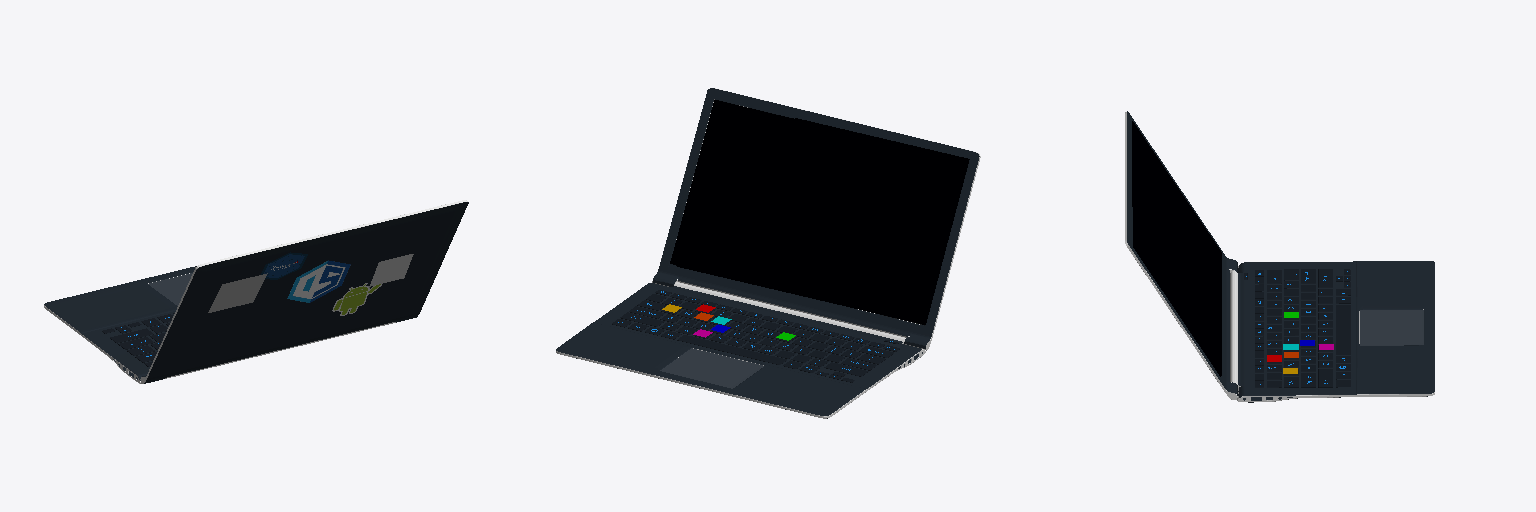
3 views of the same model, side by side, from view 1: azimuth 30°, elevation 25°; view 2: azimuth 150°, elevation 25°; view 3: azimuth 270°, elevation 25° (orthographic).
Visible parts, largest first — view 1: SAMSUNG_Laptop, Plane.004, Plane.002, Plane.005, Plane.001, Plane; view 2: Plane.003, SAMSUNG_Laptop; view 3: SAMSUNG_Laptop, Plane.003.
Part boxes in pixels (bbox=[...]): SAMSUNG_Laptop: bbox=[44, 200, 468, 383]; Plane.004: bbox=[287, 260, 350, 302]; Plane.002: bbox=[208, 273, 267, 312]; Plane.005: bbox=[369, 254, 413, 286]; Plane.001: bbox=[261, 252, 307, 279]; Plane: bbox=[332, 283, 381, 315]; Plane.003: bbox=[670, 100, 969, 324]; SAMSUNG_Laptop: bbox=[556, 88, 980, 418]; SAMSUNG_Laptop: bbox=[1125, 111, 1434, 402]; Plane.003: bbox=[1132, 121, 1221, 376].
Bounding box in the file's own units: 15.64 × 8.74 × 15.37.
14 materials, 4 textured.